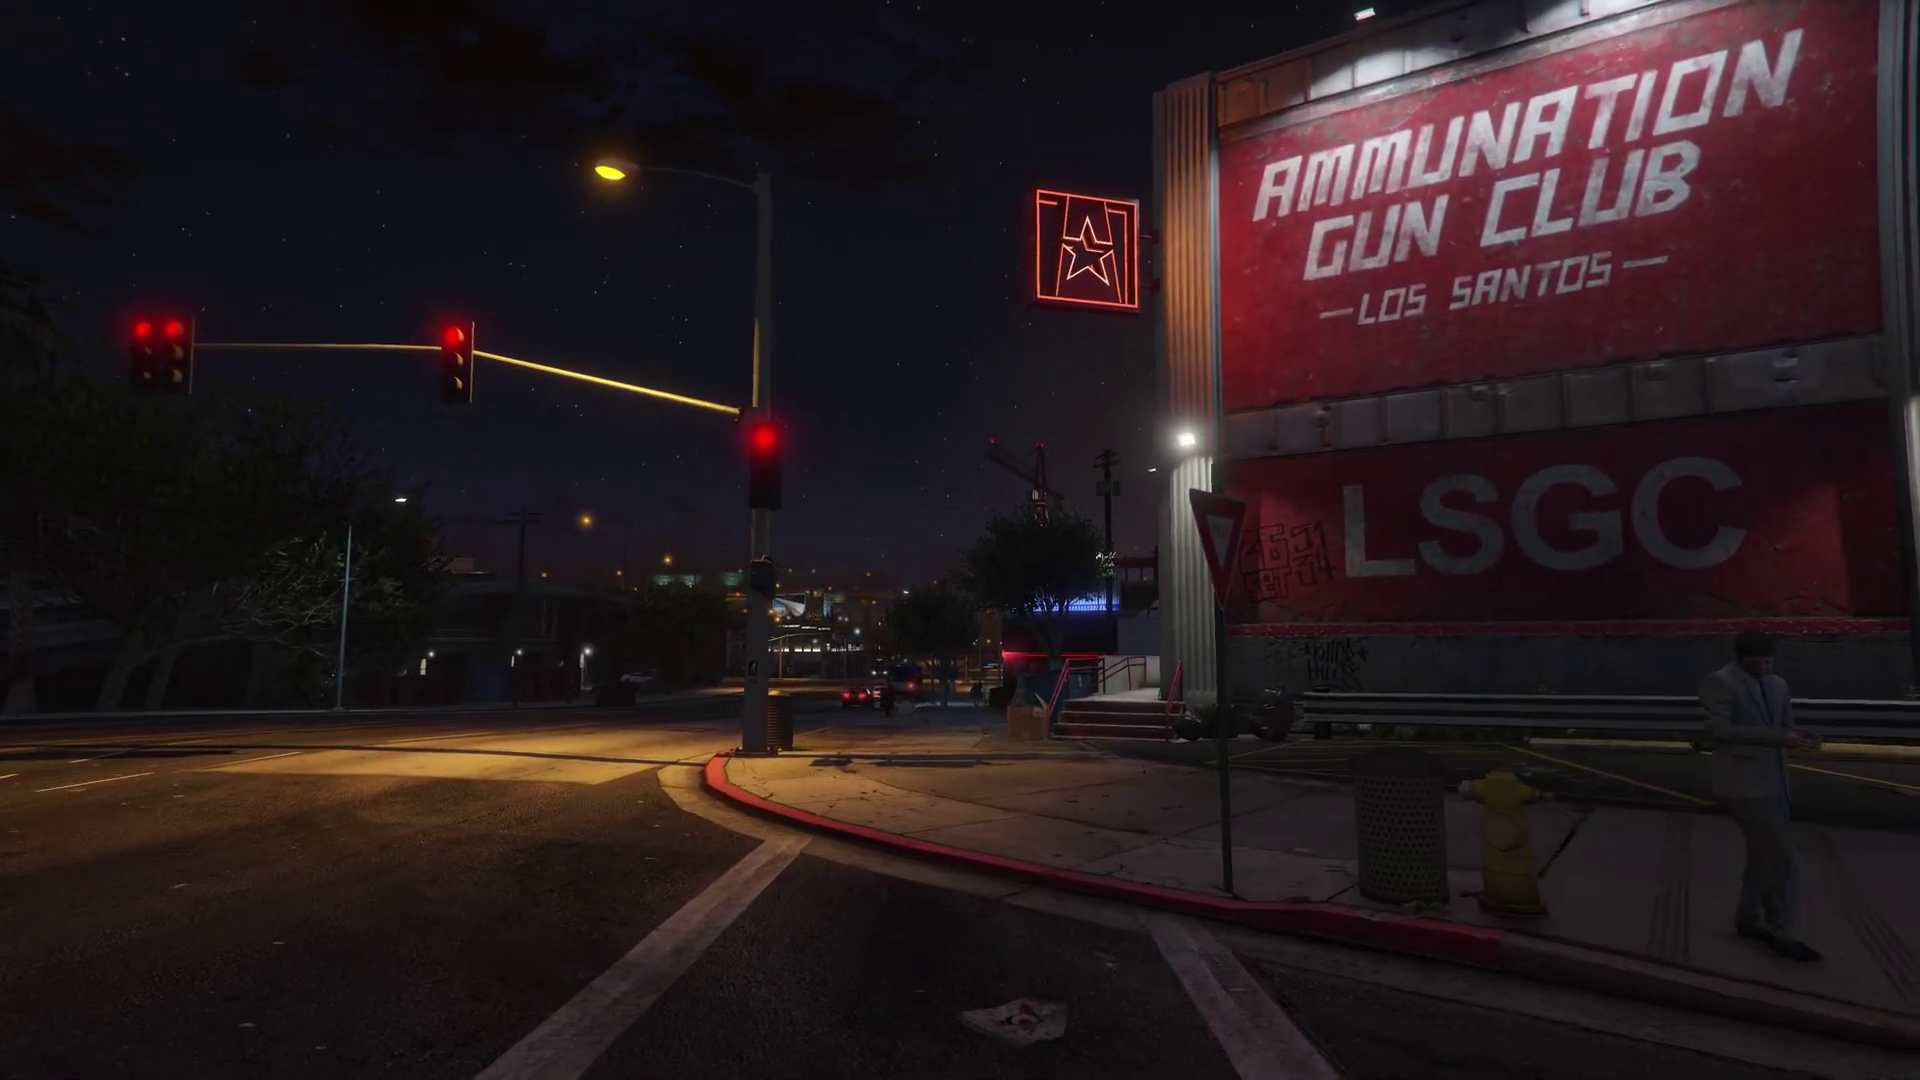person: (1685, 628, 1833, 965), (970, 682, 980, 707), (982, 683, 989, 704)
traffic light: (127, 308, 190, 391), (438, 315, 477, 401), (745, 416, 783, 503), (750, 559, 776, 595)
